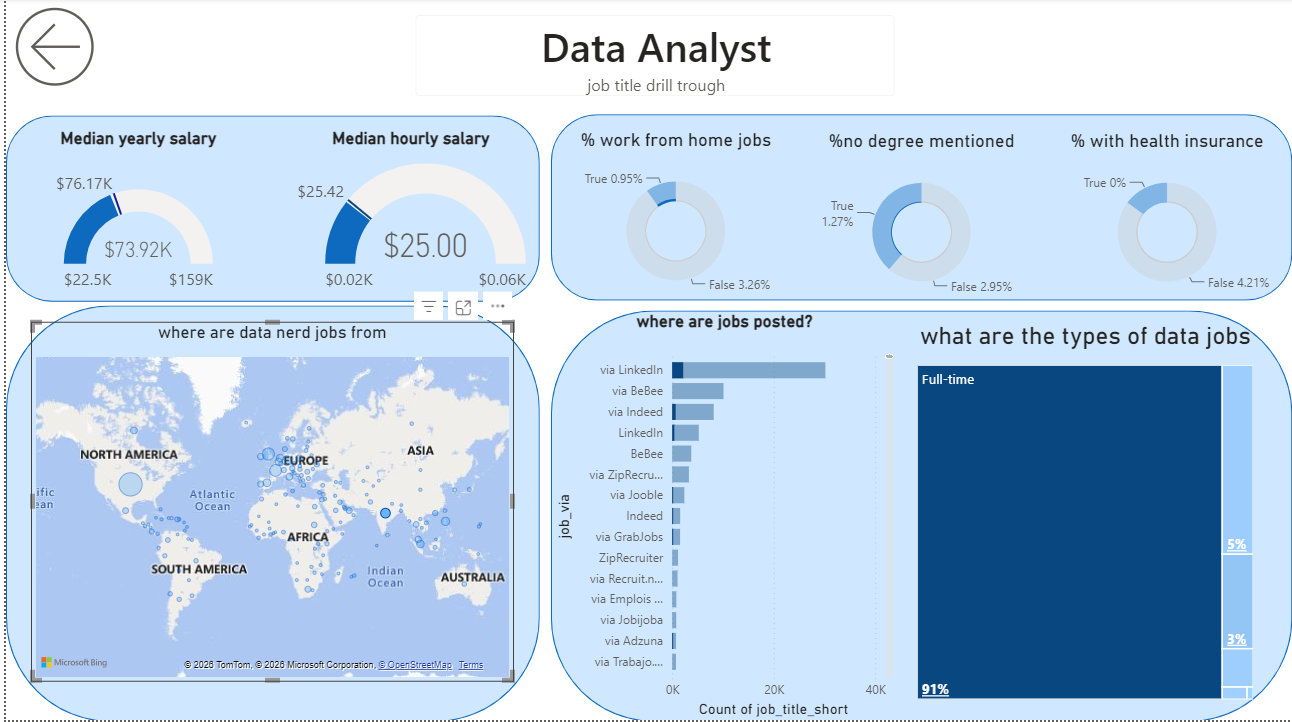

The dashboard page shown, as its layout file describes it:
{"tool":"powerbi","page":{"name":"Job Title Drilltrough","canvas":[1280,720],"ordinal":1},"visuals":[{"type":"group","id":"g1","title":"Group 1","box":[0,115.4,1280,604.6],"z":0},{"type":"shape","box":[0,116.6,531.2,185.3],"z":0,"group":"g1"},{"type":"cardVisual","fields":{"Data":["Min(job_postings_flat.job_title_short)"]},"box":[390.6,0,511.3,115.7],"z":1},{"type":"actionButton","box":[0,0,107,97],"z":2},{"type":"gauge","title":"Median yearly salary","fields":{"Y":["Median(job_postings_flat.salary_year_avg)"],"MinValue":["Min(job_postings_flat.salary_year_avg)1"],"MaxValue":["Max(job_postings_flat.salary_year_avg)2"],"TargetValue":["Avg(job_postings_flat.salary_year_avg)3"]},"box":[0,129.4,263.7,171.7],"z":3},{"type":"gauge","title":"Median hourly salary","fields":{"Y":["Median(job_postings_flat.salary_hour_avg)"],"MinValue":["Min(job_postings_flat.salary_hour_avg)"],"MaxValue":["Max(job_postings_flat.salary_hour_avg)"],"TargetValue":["Avg(job_postings_flat.salary_hour_avg)1"]},"box":[263.7,129.4,278.6,171.7],"z":4},{"type":"donutChart","title":"% work from home jobs","fields":{"Y":["CountNonNull(job_postings_flat.job_title_short)"],"Category":["job_postings_flat.job_work_from_home"]},"box":[542.4,130.6,248.8,170.4],"z":5},{"type":"donutChart","title":"%no degree mentioned","fields":{"Y":["CountNonNull(job_postings_flat.job_title_short)"],"Category":["job_postings_flat.job_no_degree_mention"]},"box":[791.2,131.9,240.1,170.4],"z":6},{"type":"donutChart","title":"% with health insurance","fields":{"Y":["CountNonNull(job_postings_flat.job_title_short)"],"Category":["job_postings_flat.job_health_insurance"]},"box":[1031.2,131.9,248.8,170.4],"z":7},{"type":"map","title":"where are data nerd jobs from","fields":{"Category":["job_postings_flat.job_country"],"Size":["CountNonNull(job_postings_flat.job_title_short)"]},"box":[24.9,322.2,480.2,358.3],"z":8},{"type":"treemap","title":"what are the types of data jobs","fields":{"Values":["CountNonNull(job_postings_flat.job_schedule_type)"],"Group":["job_postings_flat.job_schedule_type"]},"box":[901.9,322.2,344.6,380.7],"z":9},{"type":"clusteredBarChart","title":"where are jobs posted?","fields":{"Category":["job_postings_flat.job_via"],"Y":["CountNonNull(job_postings_flat.job_title_short)"]},"box":[542.4,310.7,345.8,409.3],"z":10},{"type":"shape","box":[542.4,115.4,737.7,185.3],"z":1000,"group":"g1"},{"type":"shape","box":[542.4,310.7,737.7,409.3],"z":2000,"group":"g1"},{"type":"shape","box":[0,305.7,531.2,414.2],"z":3000,"group":"g1"}]}

Visuals, with their boxes in screenshot pixels (x1, y1, x2, y2), scaled from the page's 1280x720 canvas onto the 1292x722 screenshot:
"Group 1" group: x1=0, y1=116, x2=1291, y2=721
shape: x1=0, y1=117, x2=536, y2=303
cardVisual - Min(job_postings_flat.job_title_short): x1=394, y1=0, x2=910, y2=116
actionButton: x1=0, y1=0, x2=108, y2=97
"Median yearly salary" gauge: x1=0, y1=130, x2=266, y2=302
"Median hourly salary" gauge: x1=266, y1=130, x2=547, y2=302
"% work from home jobs" donutChart: x1=547, y1=131, x2=799, y2=302
"%no degree mentioned" donutChart: x1=799, y1=132, x2=1041, y2=303
"% with health insurance" donutChart: x1=1041, y1=132, x2=1291, y2=303
"where are data nerd jobs from" map: x1=25, y1=323, x2=510, y2=682
"what are the types of data jobs" treemap: x1=910, y1=323, x2=1258, y2=705
"where are jobs posted?" clusteredBarChart: x1=547, y1=312, x2=897, y2=721
shape: x1=547, y1=116, x2=1291, y2=302
shape: x1=547, y1=312, x2=1291, y2=721
shape: x1=0, y1=307, x2=536, y2=721
